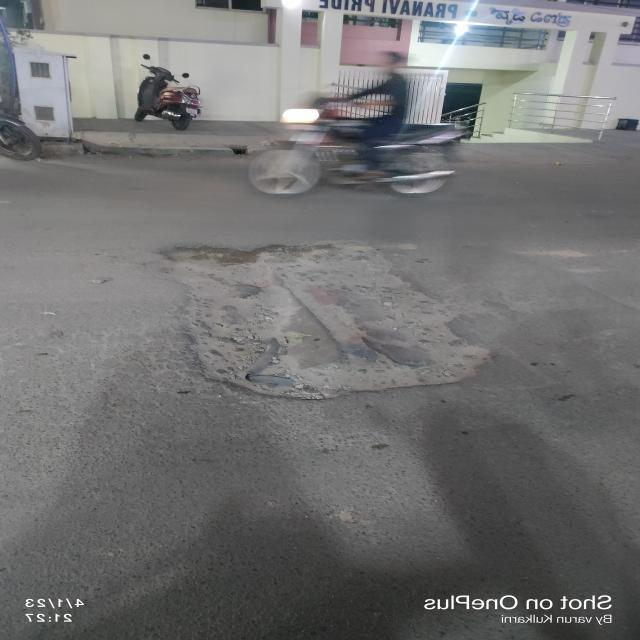potholes: (161, 240, 482, 396)
